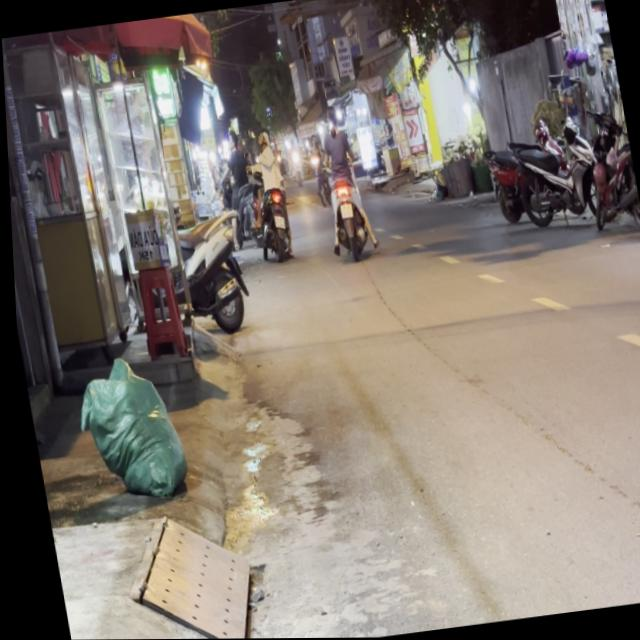licenseplate: (307, 99, 376, 262)
nohelmet: (336, 202, 350, 217)
